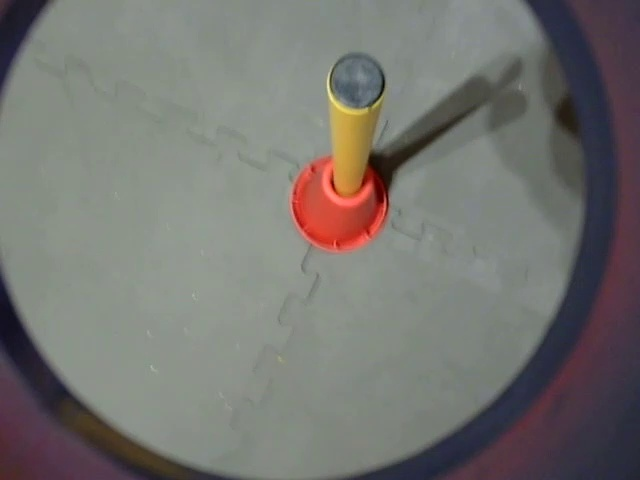tip: (323, 46, 388, 125)
